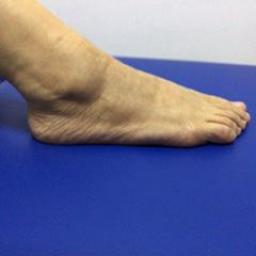Lateral View -Right Foot-: (3, 36, 252, 163)
